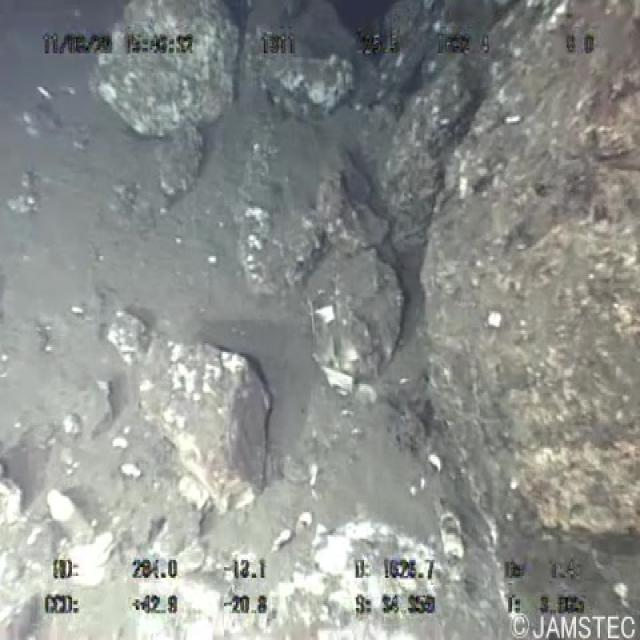plastic: (303, 292, 356, 402), (41, 480, 95, 551)
